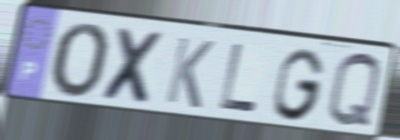G: (271, 46, 328, 124)
K: (162, 34, 217, 112)
L: (217, 41, 260, 116)
O: (49, 21, 114, 103)
Q: (324, 50, 383, 131)
X: (98, 24, 168, 109)
